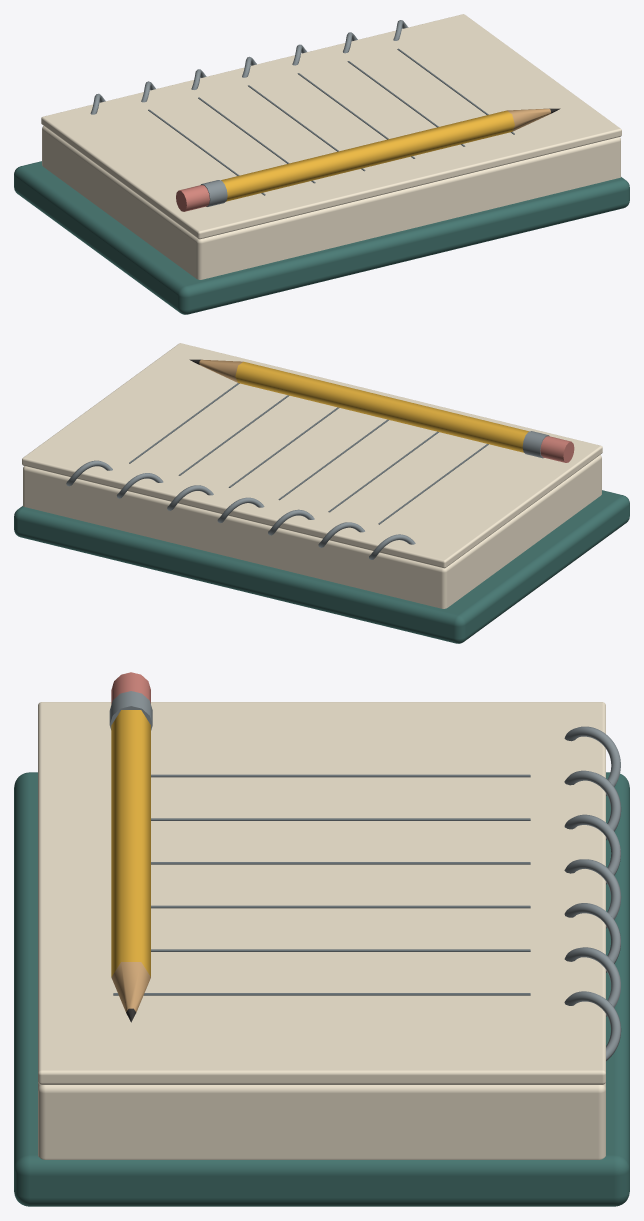
File: notebook-inspection.glb
The picture shows the model from 3 angles, top to bottom: view 1: azimuth 30°, elevation 25°; view 2: azimuth 150°, elevation 25°; view 3: azimuth 270°, elevation 25°; orthographic projection. The views are drawn at different scales.
Visible parts, largest first — view 1: Refined_Notebook_Top, Refined_Notebook_Pages, Refined_Notebook_Cover, Pencil, Refined_Notebook_Binding; view 2: Refined_Notebook_Top, Refined_Notebook_Pages, Refined_Notebook_Cover, Pencil, Refined_Notebook_Binding; view 3: Refined_Notebook_Top, Refined_Notebook_Cover, Refined_Notebook_Pages, Pencil, Refined_Notebook_Binding, Refined_Notebook_Ruling_0, Refined_Notebook_Ruling_3, Refined_Notebook_Ruling_5, Refined_Notebook_Ruling_1, Refined_Notebook_Ruling_2, Refined_Notebook_Ruling_4.
Boxes of the visible parts, bbox=[...] form: Refined_Notebook_Top: bbox=[41, 14, 621, 239]; Refined_Notebook_Pages: bbox=[42, 126, 620, 279]; Refined_Notebook_Cover: bbox=[14, 161, 629, 314]; Pencil: bbox=[176, 108, 560, 211]; Refined_Notebook_Binding: bbox=[90, 20, 408, 114]; Refined_Notebook_Top: bbox=[22, 343, 602, 568]; Refined_Notebook_Pages: bbox=[23, 455, 601, 608]; Refined_Notebook_Cover: bbox=[14, 490, 629, 643]; Pencil: bbox=[189, 359, 574, 462]; Refined_Notebook_Binding: bbox=[66, 460, 415, 559]; Refined_Notebook_Top: bbox=[38, 702, 605, 1084]; Refined_Notebook_Cover: bbox=[14, 772, 629, 1206]; Refined_Notebook_Pages: bbox=[38, 1082, 605, 1159]; Pencil: bbox=[109, 672, 152, 1022]; Refined_Notebook_Binding: bbox=[564, 726, 621, 1060]; Refined_Notebook_Ruling_0: bbox=[151, 774, 530, 777]; Refined_Notebook_Ruling_3: bbox=[151, 905, 530, 908]; Refined_Notebook_Ruling_5: bbox=[113, 993, 530, 995]; Refined_Notebook_Ruling_1: bbox=[151, 818, 530, 820]; Refined_Notebook_Ruling_2: bbox=[151, 862, 530, 864]; Refined_Notebook_Ruling_4: bbox=[151, 949, 530, 951].
Size of the model in its own units: 0.235 by 0.0484 by 0.155.
